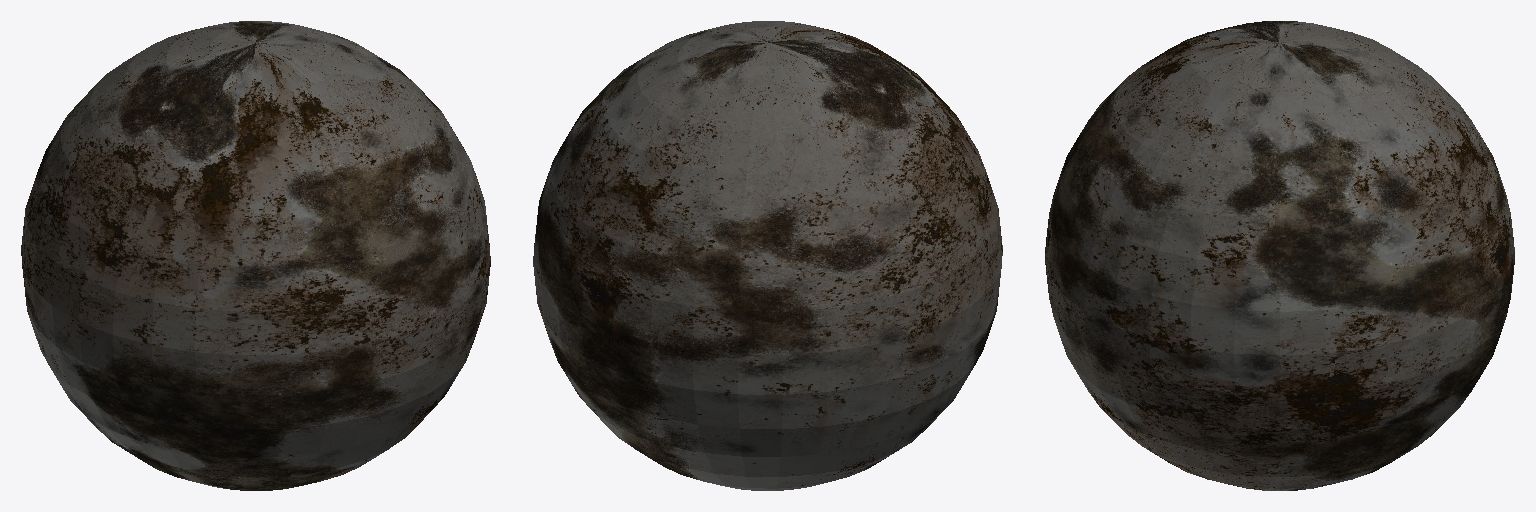
3 renders of one model, left to right at view 1: azimuth 30°, elevation 25°; view 2: azimuth 150°, elevation 25°; view 3: azimuth 270°, elevation 25°, orthographic.
Visible parts, largest first — view 1: Sphere; view 2: Sphere; view 3: Sphere.
Part boxes in pixels (x1,y1,x2,y2): Sphere: (21, 21, 490, 490); Sphere: (533, 21, 1002, 490); Sphere: (1045, 21, 1514, 490).
Size of the model in its own units: 2 by 2 by 2.
1 materials, 1 textured.